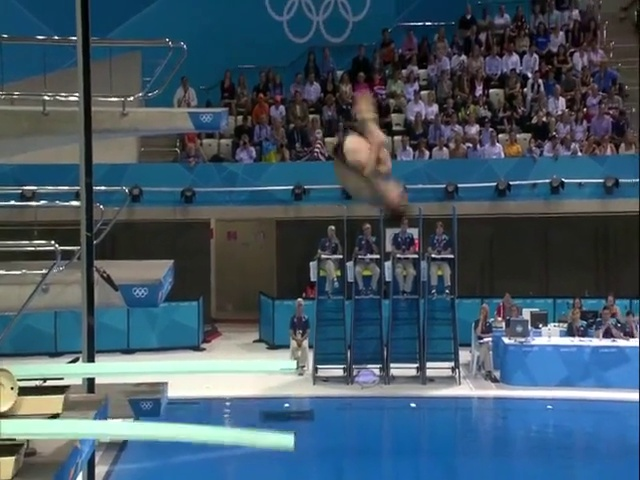diver: (332, 89, 407, 224)
